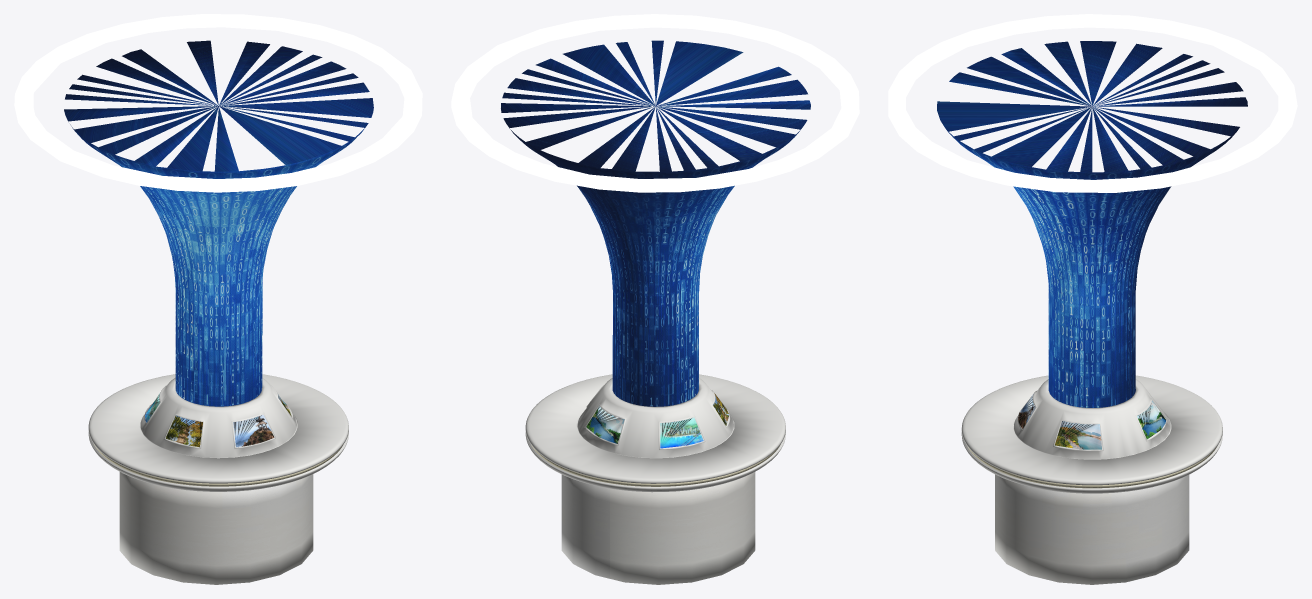
Rendered from zhongyangyuanzhu.gltf.
3 views of the same model, side by side, from view 1: azimuth 30°, elevation 25°; view 2: azimuth 150°, elevation 25°; view 3: azimuth 270°, elevation 25° (orthographic).
Parts seen in each view (by area): view 1: zhuzi1, Circle653, Cylinder002, zhuzi2, grid002, Circle639, grid006; view 2: zhuzi1, Circle653, Cylinder002, zhuzi2, grid005, grid004, Circle639; view 3: zhuzi1, Circle653, Cylinder002, zhuzi2, grid003, Circle639, grid004.
Boxes of the visible parts, <box> form: zhuzi1: <box>64,40,373,406</box>; Circle653: <box>88,374,348,491</box>; Cylinder002: <box>119,472,313,584</box>; zhuzi2: <box>14,14,422,192</box>; grid002: <box>233,414,274,447</box>; Circle639: <box>94,444,343,486</box>; grid006: <box>165,415,202,447</box>; zhuzi1: <box>501,40,810,422</box>; Circle653: <box>525,374,785,492</box>; Cylinder002: <box>561,472,755,584</box>; zhuzi2: <box>451,14,859,192</box>; grid005: <box>660,417,703,448</box>; grid004: <box>586,406,624,443</box>; Circle639: <box>531,444,780,486</box>; zhuzi1: <box>937,41,1247,423</box>; Circle653: <box>961,375,1222,493</box>; Cylinder002: <box>995,414,1189,584</box>; zhuzi2: <box>888,14,1297,192</box>; grid003: <box>1054,421,1101,449</box>; Circle639: <box>967,446,1217,488</box>; grid004: <box>1137,401,1165,439</box>.
Size of the model in its own units: 3758 by 4500 by 3760.
10 materials, 8 textured.
